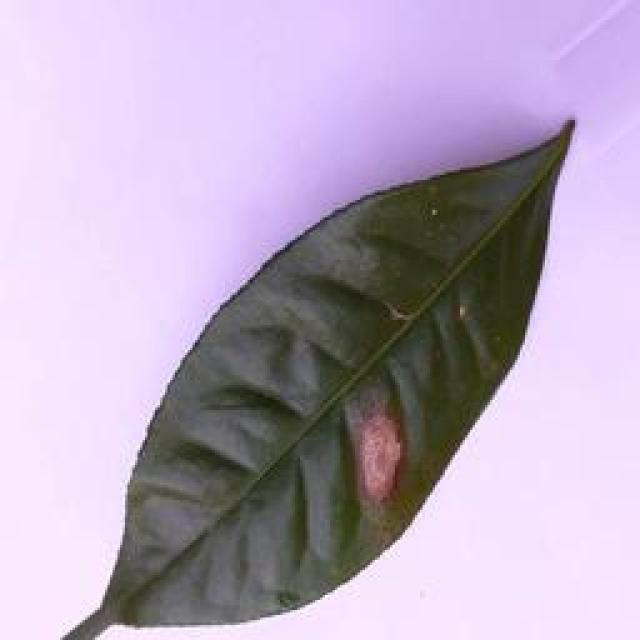Gray Blight: (101, 115, 581, 638)
